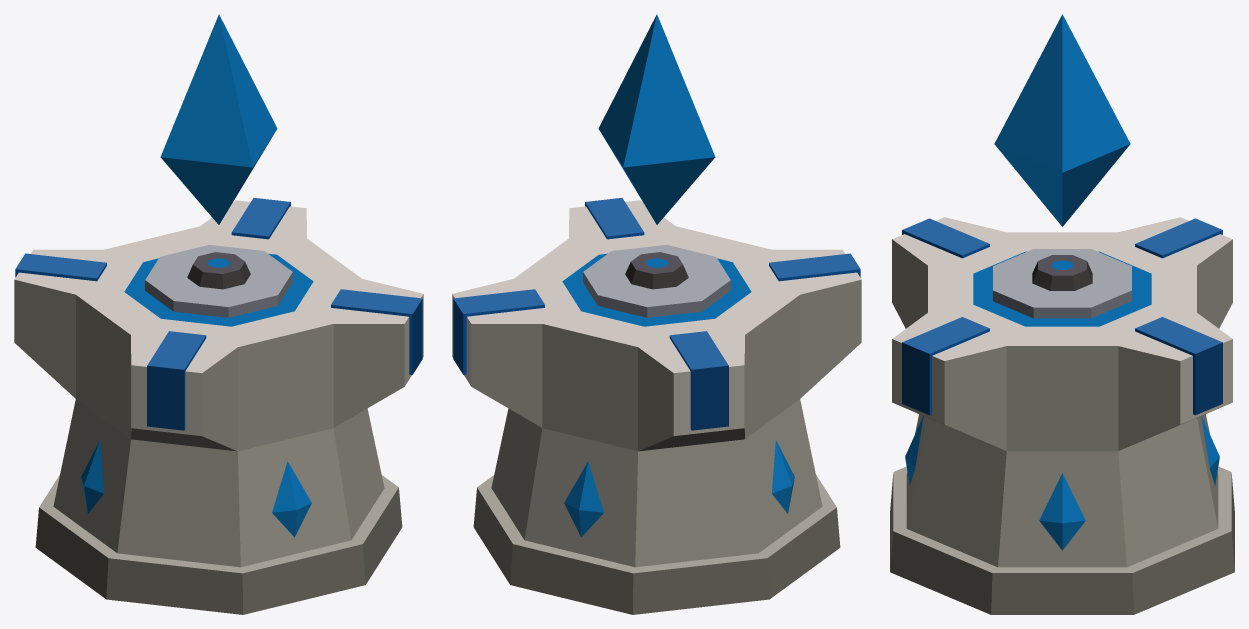
Rendered from TB_MageTower_Lvl1.FBX.
3 views of the same model, side by side, from view 1: azimuth 30°, elevation 25°; view 2: azimuth 150°, elevation 25°; view 3: azimuth 270°, elevation 25° (orthographic).
Parts seen in each view (by area): view 1: TB_MageTower_Lvl1, TB_MageTower_Lvl1_Crystal; view 2: TB_MageTower_Lvl1, TB_MageTower_Lvl1_Crystal; view 3: TB_MageTower_Lvl1, TB_MageTower_Lvl1_Crystal.
Boxes of the visible parts, left/top/right/bottom form: TB_MageTower_Lvl1: left=14, top=198, right=423, bottom=614; TB_MageTower_Lvl1_Crystal: left=160, top=14, right=277, bottom=224; TB_MageTower_Lvl1: left=452, top=198, right=861, bottom=614; TB_MageTower_Lvl1_Crystal: left=598, top=14, right=715, bottom=224; TB_MageTower_Lvl1: left=890, top=217, right=1234, bottom=614; TB_MageTower_Lvl1_Crystal: left=994, top=14, right=1130, bottom=226.
Size of the model in its own units: 6.18 by 10.44 by 6.18.
